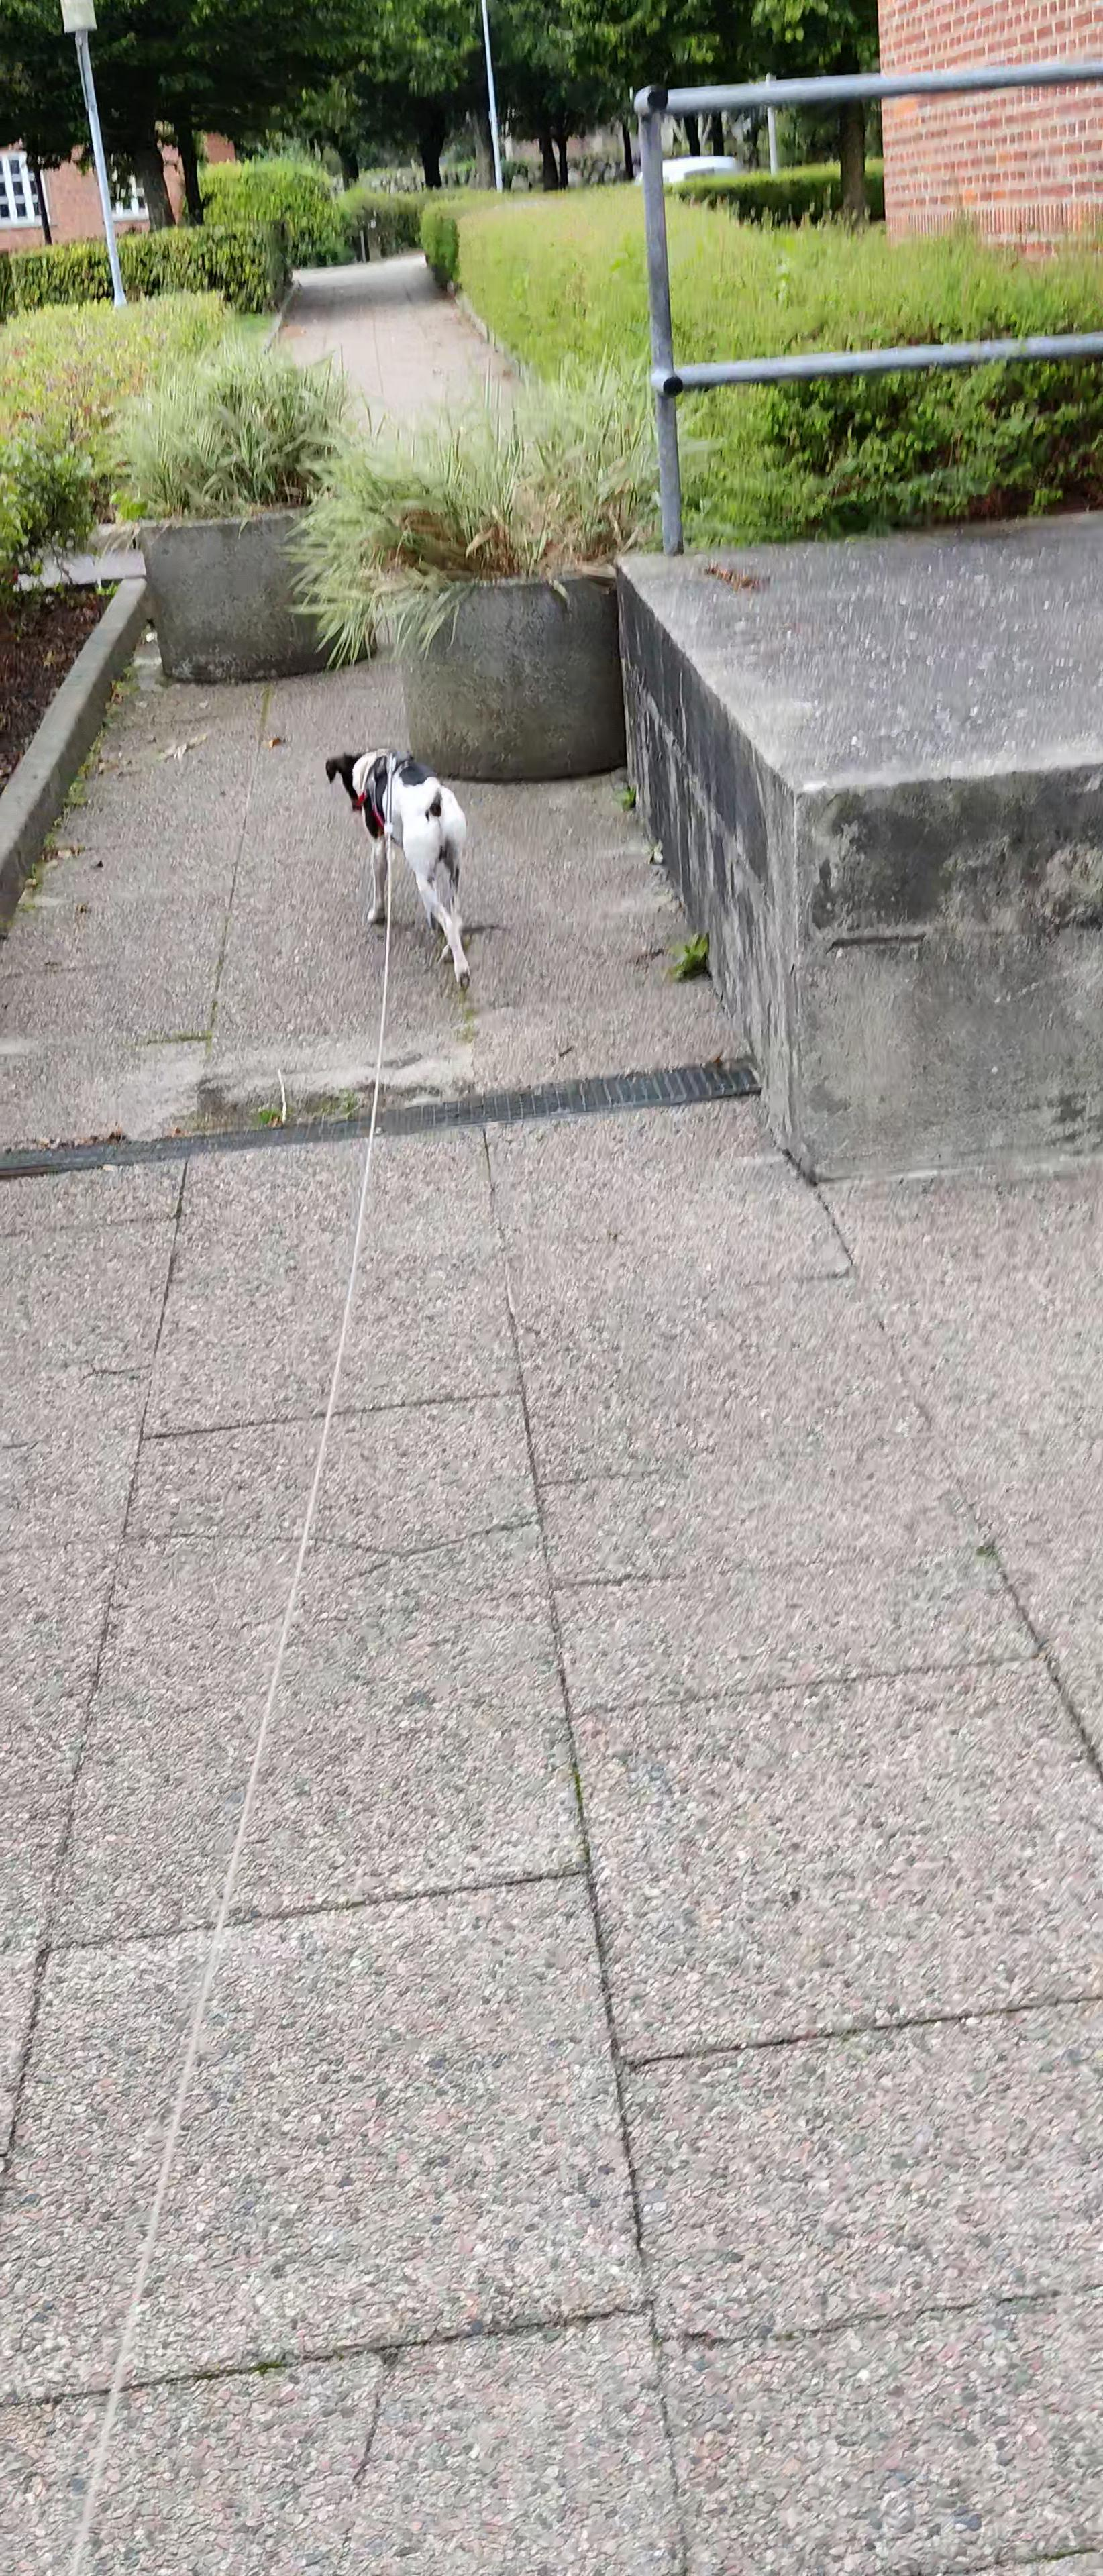Dog: (324, 741, 473, 992)
